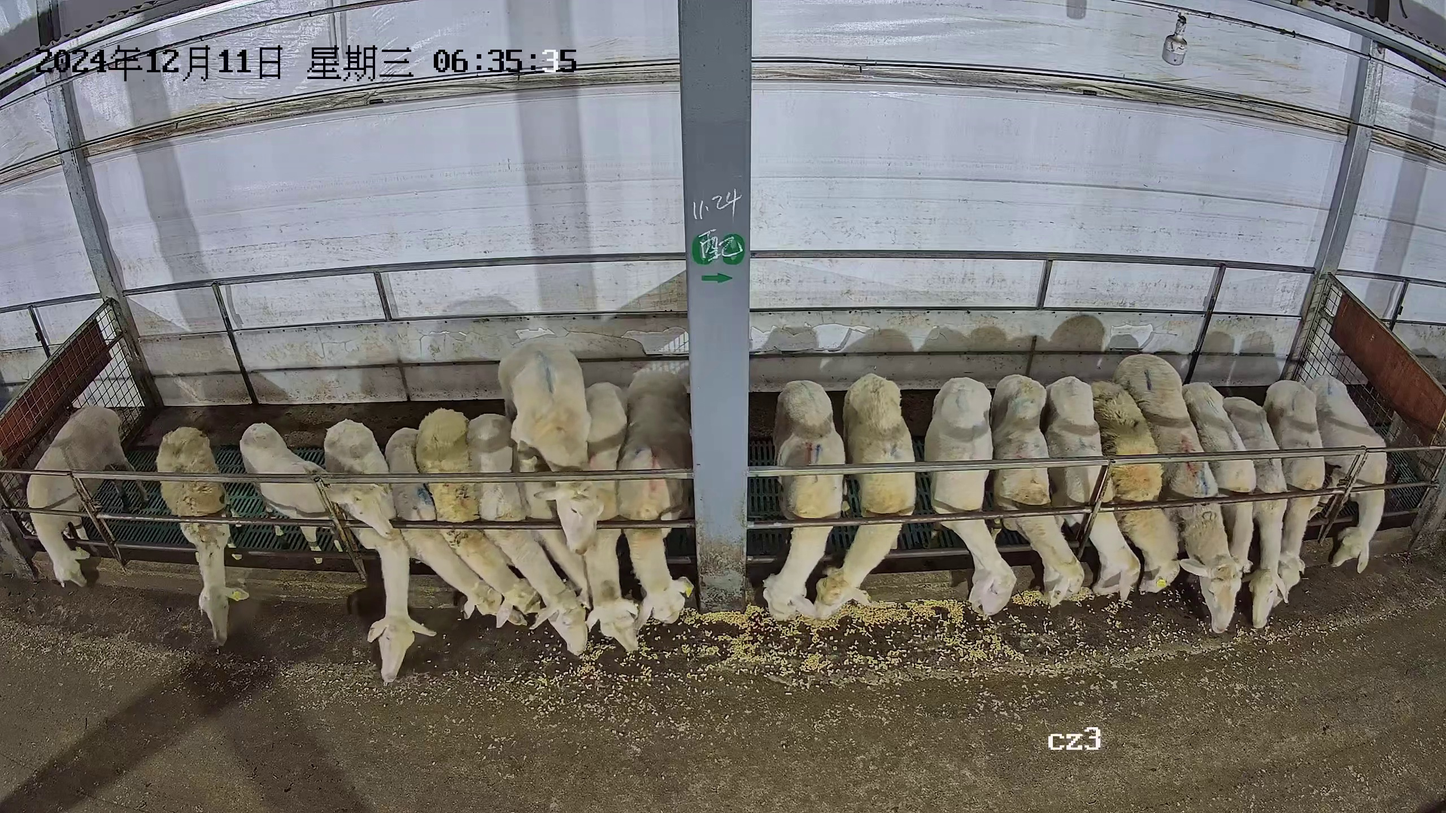Nmounting: (489, 334, 609, 657)
